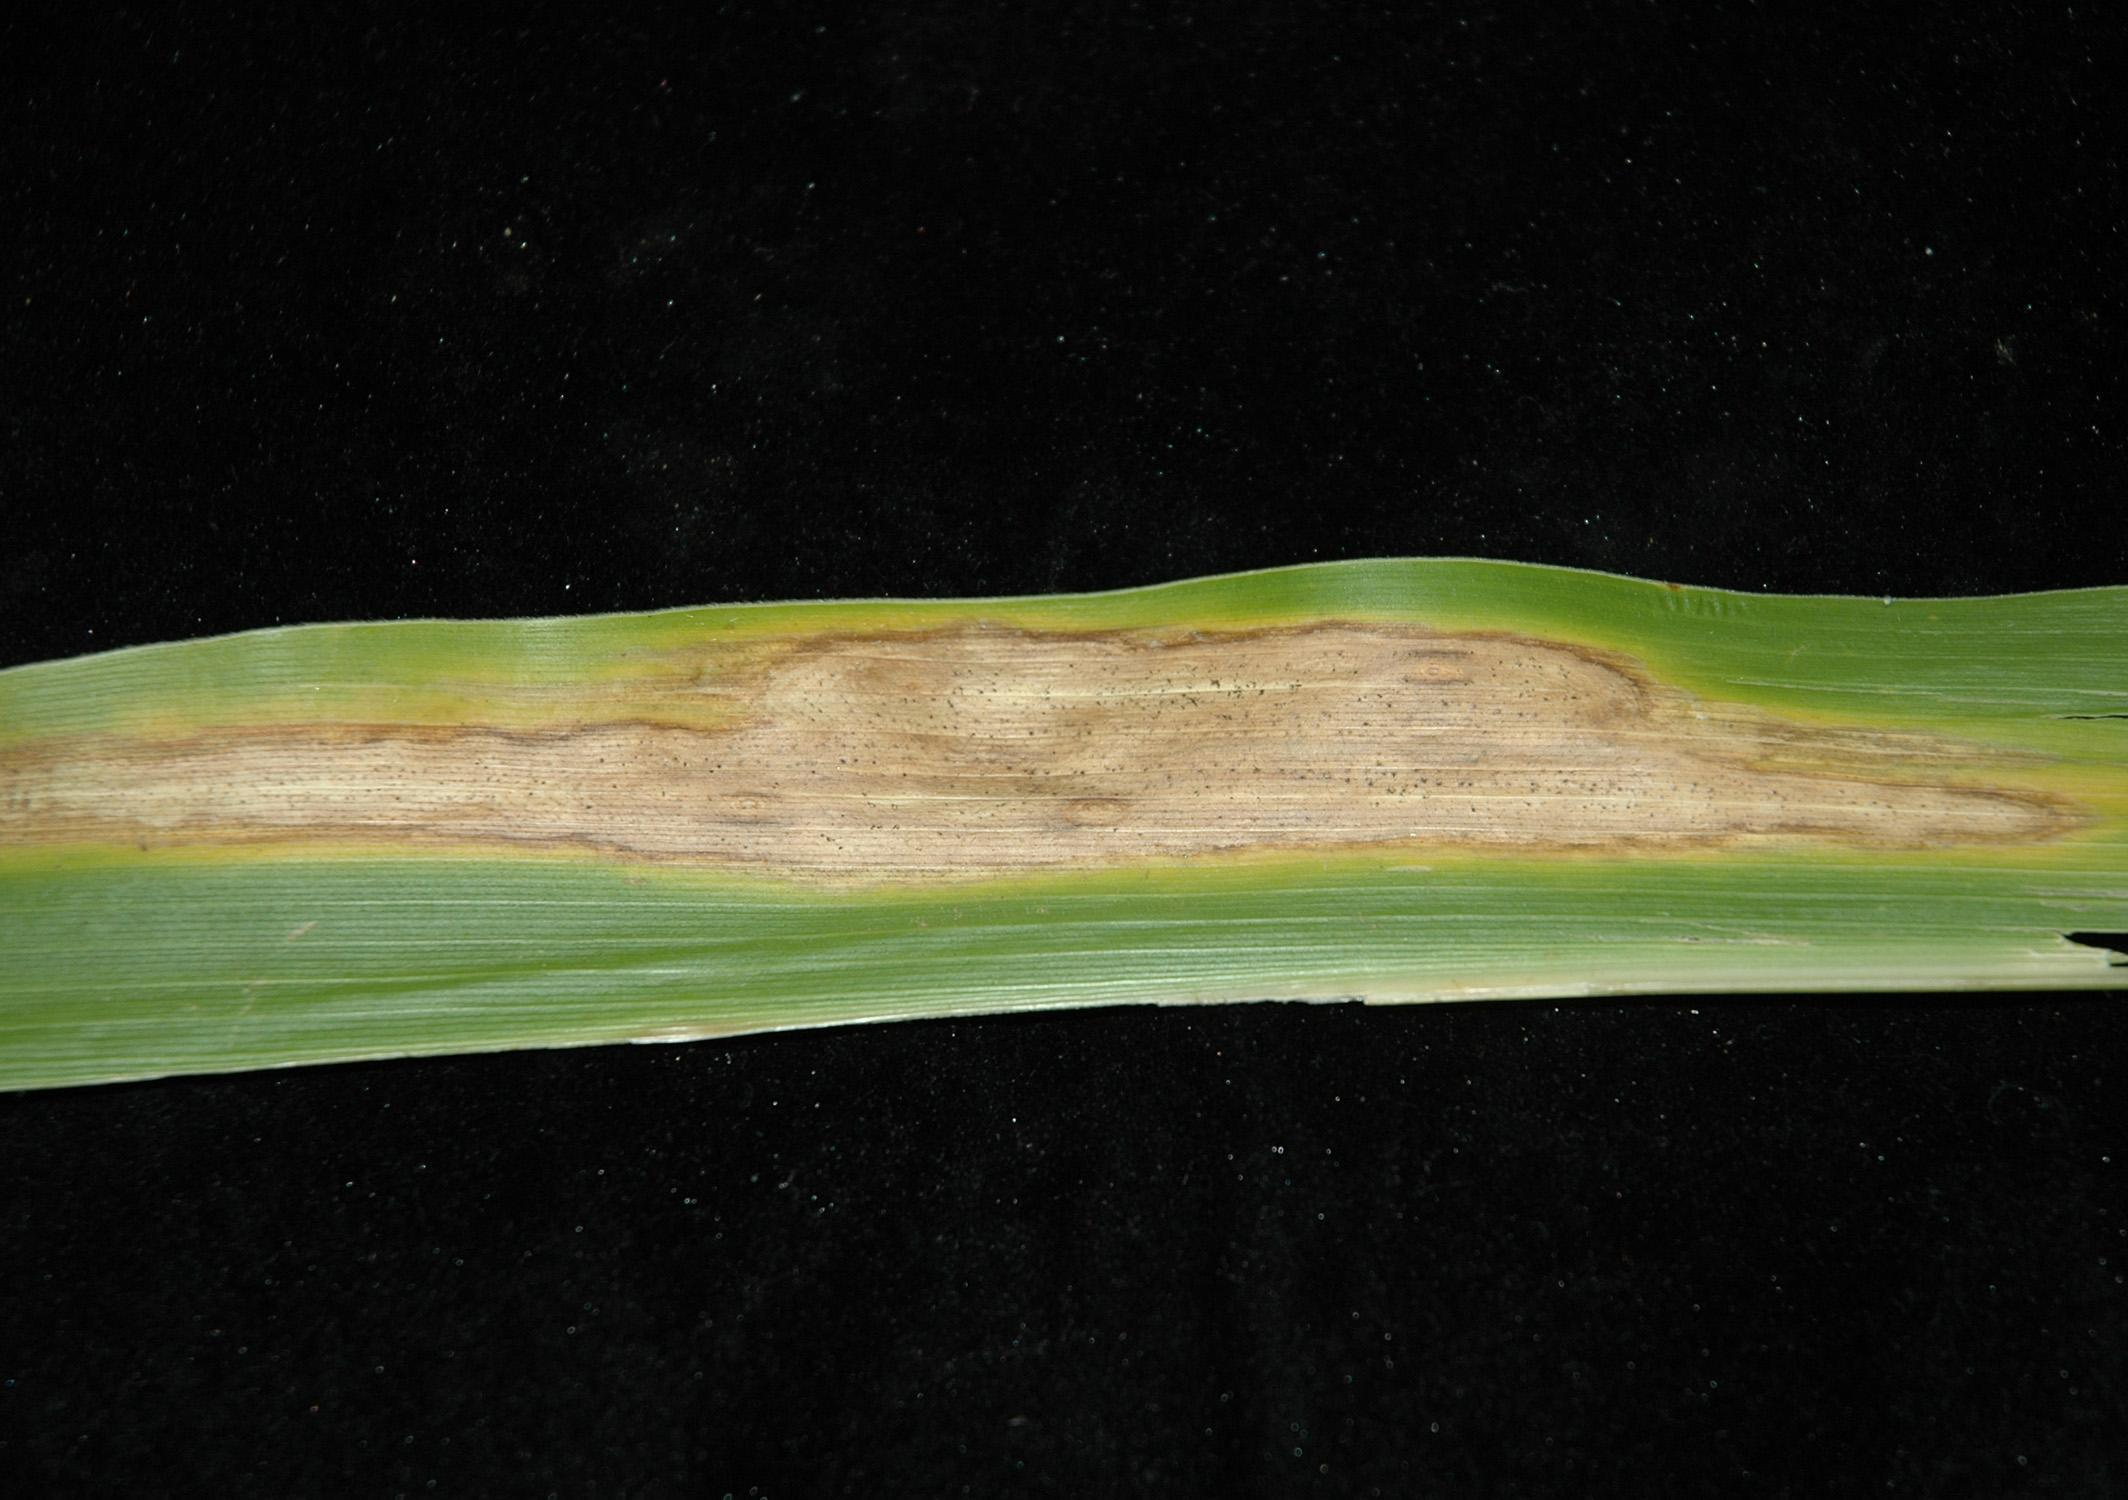Corn_Blight: (16, 558, 2105, 920)
